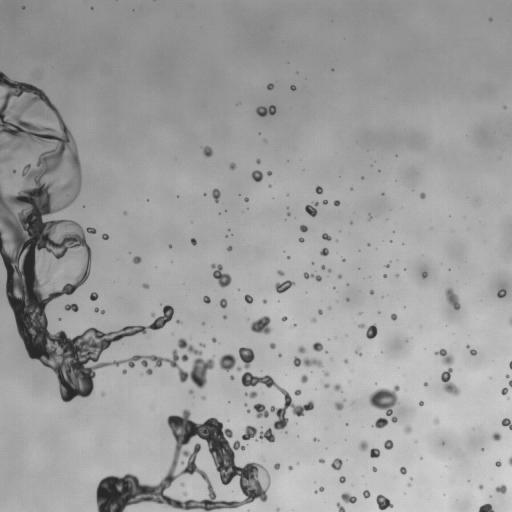droplet: (367, 384, 400, 423), (250, 316, 273, 335), (357, 323, 377, 339), (376, 494, 393, 511), (305, 201, 318, 217), (371, 417, 388, 428), (341, 491, 356, 503), (330, 458, 343, 471), (200, 145, 213, 157), (500, 417, 511, 431), (251, 170, 263, 182), (334, 398, 346, 410), (494, 484, 507, 495), (64, 303, 78, 312), (6, 70, 17, 81), (275, 81, 286, 92), (15, 148, 26, 159), (307, 192, 318, 203), (300, 213, 311, 224), (331, 261, 342, 272), (291, 272, 302, 283), (372, 279, 383, 290), (219, 286, 230, 297), (60, 293, 71, 304), (43, 303, 54, 314), (4, 308, 15, 319), (110, 321, 121, 332), (46, 324, 57, 335), (14, 338, 25, 349), (304, 347, 315, 358), (99, 350, 110, 361), (248, 364, 259, 375), (204, 368, 215, 379), (292, 395, 303, 406), (193, 414, 204, 425), (379, 426, 390, 437), (234, 456, 245, 467), (148, 475, 159, 486), (484, 481, 495, 492), (341, 482, 352, 493), (350, 486, 361, 497), (144, 500, 155, 511), (212, 188, 220, 203), (244, 390, 257, 399), (243, 294, 254, 304), (312, 341, 323, 351), (491, 431, 502, 441), (358, 440, 368, 451), (333, 383, 343, 393), (370, 448, 380, 458), (354, 344, 362, 356), (403, 424, 412, 434), (384, 439, 393, 449), (362, 489, 371, 499), (296, 345, 307, 353), (319, 380, 330, 388), (320, 247, 329, 256), (497, 289, 506, 298), (336, 502, 345, 511), (5, 160, 14, 169), (73, 197, 82, 206), (40, 213, 49, 222), (84, 233, 93, 242), (335, 279, 344, 288), (210, 296, 219, 305), (131, 317, 140, 326), (65, 330, 74, 339), (255, 330, 264, 339), (234, 357, 243, 366), (322, 361, 331, 370), (297, 364, 306, 373), (255, 381, 264, 390), (368, 384, 377, 393), (333, 392, 342, 401), (275, 398, 284, 407), (284, 407, 293, 416), (376, 408, 385, 417), (268, 412, 277, 421), (167, 436, 176, 445), (88, 487, 97, 496), (342, 501, 351, 510), (86, 226, 96, 234), (219, 298, 227, 308), (315, 185, 323, 194), (299, 225, 308, 233), (322, 233, 331, 241), (90, 292, 98, 301), (300, 374, 308, 383), (0, 147, 8, 156), (132, 256, 142, 263), (0, 130, 6, 141), (88, 505, 99, 511), (122, 505, 133, 511), (494, 459, 502, 467), (203, 295, 210, 304), (266, 83, 274, 90), (229, 162, 236, 170), (421, 271, 428, 279), (390, 313, 397, 321), (322, 370, 330, 377), (501, 387, 508, 395), (432, 417, 439, 425), (0, 84, 5, 95), (0, 261, 5, 272), (189, 238, 196, 245), (269, 342, 276, 349), (294, 389, 301, 396), (273, 462, 280, 469), (339, 476, 346, 483), (24, 77, 31, 84), (34, 81, 41, 88), (44, 89, 51, 96), (211, 148, 218, 155), (77, 153, 84, 160), (30, 162, 37, 169), (255, 163, 262, 170), (261, 174, 268, 181), (316, 193, 323, 200), (95, 229, 102, 236), (297, 230, 304, 237), (321, 239, 328, 246), (89, 261, 96, 268), (88, 267, 95, 274), (318, 269, 325, 276), (329, 271, 336, 278), (277, 276, 284, 283), (308, 276, 315, 283), (339, 277, 346, 284), (452, 287, 459, 294), (440, 293, 447, 300), (50, 297, 57, 304), (457, 297, 464, 304), (91, 299, 98, 306), (446, 303, 453, 310), (220, 307, 227, 314), (252, 314, 259, 321), (147, 316, 154, 323), (356, 316, 363, 323), (245, 320, 252, 327), (205, 339, 212, 346), (320, 339, 327, 346), (171, 341, 178, 348), (445, 347, 452, 354), (177, 348, 184, 355), (222, 348, 229, 355), (271, 348, 278, 355), (155, 350, 162, 357), (125, 351, 132, 358), (232, 351, 239, 358), (297, 352, 304, 359), (201, 354, 208, 361), (97, 355, 104, 362), (32, 357, 39, 364), (134, 359, 141, 366), (147, 360, 154, 367), (161, 360, 168, 367), (213, 360, 220, 367), (121, 361, 128, 368), (310, 364, 317, 371), (152, 366, 159, 373), (171, 367, 178, 374), (229, 367, 236, 374), (50, 371, 57, 378), (235, 372, 242, 379), (173, 373, 180, 380), (91, 376, 98, 383), (185, 376, 192, 383), (296, 382, 303, 389), (340, 382, 347, 389), (246, 384, 253, 391), (386, 384, 393, 391), (90, 388, 97, 395), (394, 390, 401, 397), (444, 391, 451, 398), (73, 394, 80, 401), (251, 397, 258, 404), (342, 401, 349, 408), (176, 410, 183, 417), (161, 418, 168, 425), (271, 428, 278, 435), (408, 431, 415, 438), (227, 438, 234, 445), (239, 438, 246, 445), (353, 438, 360, 445), (379, 447, 386, 454), (325, 457, 332, 464), (165, 458, 172, 465), (500, 458, 507, 465), (279, 463, 286, 470), (266, 464, 273, 471), (129, 468, 136, 475), (335, 469, 342, 476), (102, 470, 109, 477), (160, 470, 167, 477), (116, 471, 123, 478), (138, 478, 145, 485), (348, 489, 355, 496), (356, 493, 363, 500), (369, 494, 376, 501), (253, 496, 260, 503), (141, 500, 148, 507), (243, 502, 250, 509), (101, 233, 109, 239), (276, 270, 284, 276), (400, 466, 406, 474), (506, 289, 511, 298), (506, 483, 511, 492), (221, 506, 230, 511), (419, 192, 425, 199), (333, 200, 340, 206), (266, 170, 272, 176), (226, 245, 232, 251), (371, 466, 377, 472), (0, 258, 4, 267), (298, 237, 305, 242), (142, 283, 149, 288), (310, 317, 317, 322), (175, 319, 182, 324), (198, 342, 205, 347), (312, 437, 319, 442), (318, 458, 325, 463), (290, 85, 296, 90), (244, 196, 249, 202), (337, 273, 342, 279), (369, 289, 374, 295), (317, 309, 322, 315), (281, 316, 287, 321), (229, 374, 234, 380), (188, 389, 194, 394), (418, 400, 423, 406), (507, 368, 511, 375), (507, 386, 511, 393), (175, 507, 182, 511), (196, 507, 203, 511), (332, 507, 339, 511), (383, 507, 390, 511), (322, 199, 327, 204), (286, 211, 291, 216), (320, 265, 325, 270), (326, 268, 331, 273), (222, 315, 227, 320), (343, 358, 348, 363), (423, 381, 428, 386), (288, 465, 293, 470), (408, 476, 413, 481), (478, 484, 483, 489), (263, 80, 268, 85), (272, 85, 277, 90), (49, 98, 54, 103), (264, 103, 269, 108), (265, 112, 270, 117), (254, 113, 259, 118), (65, 123, 70, 128), (258, 134, 263, 139), (201, 142, 206, 147), (200, 153, 205, 158), (207, 155, 212, 160), (232, 158, 237, 163), (233, 167, 238, 172), (16, 169, 21, 174), (247, 169, 252, 174), (261, 170, 266, 175), (249, 177, 254, 182), (80, 178, 85, 183), (256, 180, 261, 185), (217, 186, 222, 191), (78, 190, 83, 195), (415, 191, 420, 196), (240, 193, 245, 198), (424, 193, 429, 198), (76, 194, 81, 199), (209, 196, 214, 201), (217, 196, 222, 201), (328, 199, 333, 204), (317, 200, 322, 205), (243, 201, 248, 206), (219, 207, 224, 212), (290, 211, 295, 216), (315, 211, 320, 216), (304, 212, 309, 217), (73, 217, 78, 222), (330, 235, 335, 240), (186, 240, 191, 245), (89, 246, 94, 251), (317, 246, 322, 251), (135, 251, 140, 256), (129, 253, 134, 258), (320, 254, 325, 259), (137, 261, 142, 266), (280, 266, 285, 271), (209, 267, 214, 272), (419, 267, 424, 272), (220, 268, 225, 273), (383, 268, 388, 273), (398, 269, 403, 274), (416, 272, 421, 277), (229, 273, 234, 278), (84, 278, 89, 283), (143, 278, 148, 283), (213, 278, 218, 283), (223, 285, 228, 290), (141, 287, 146, 292), (73, 288, 78, 293), (271, 288, 276, 293), (285, 288, 290, 293), (241, 290, 246, 295), (492, 293, 497, 298), (208, 294, 213, 299), (495, 296, 500, 301), (198, 297, 203, 302), (165, 300, 170, 305), (161, 301, 166, 306), (226, 301, 231, 306), (76, 302, 81, 307), (225, 304, 230, 309), (321, 307, 326, 312), (68, 308, 73, 313), (158, 311, 163, 316), (313, 311, 318, 316), (395, 311, 400, 316), (279, 312, 284, 317), (170, 316, 175, 321), (387, 317, 392, 322), (123, 321, 128, 326), (164, 321, 169, 326), (504, 321, 509, 326), (89, 322, 94, 327), (120, 322, 125, 327), (365, 322, 370, 327), (83, 324, 88, 329), (95, 325, 100, 330), (146, 327, 151, 332), (362, 327, 367, 332), (102, 328, 107, 333), (153, 328, 158, 333), (376, 328, 381, 333), (76, 330, 81, 335), (137, 331, 142, 336), (120, 336, 125, 341), (200, 338, 205, 343), (271, 338, 276, 343), (311, 338, 316, 343), (185, 339, 190, 344), (110, 340, 115, 345), (195, 345, 200, 350), (265, 345, 270, 350), (350, 345, 355, 350), (435, 346, 440, 351), (136, 350, 141, 355), (146, 350, 151, 355), (252, 350, 257, 355), (342, 353, 347, 358), (436, 353, 441, 358), (114, 356, 119, 361), (249, 360, 254, 365), (299, 362, 304, 367), (110, 363, 115, 368), (449, 363, 454, 368), (102, 365, 107, 370), (142, 366, 147, 371), (221, 368, 226, 373), (240, 368, 245, 373), (251, 371, 256, 376), (449, 371, 454, 376), (305, 372, 310, 377), (122, 373, 127, 378), (144, 373, 149, 378), (296, 374, 301, 379), (436, 375, 441, 380), (225, 376, 230, 381), (272, 377, 277, 382), (306, 377, 311, 382), (323, 377, 328, 382), (448, 377, 453, 382), (439, 380, 444, 385), (504, 382, 509, 387), (279, 383, 284, 388), (318, 383, 323, 388), (328, 385, 333, 390), (496, 388, 501, 393), (288, 391, 293, 396), (187, 393, 192, 398), (279, 393, 284, 398), (56, 394, 61, 399), (501, 394, 506, 399), (336, 397, 341, 402), (312, 402, 317, 407), (330, 403, 335, 408), (185, 405, 190, 410), (264, 405, 269, 410), (390, 405, 395, 410), (251, 408, 256, 413), (336, 409, 341, 414), (259, 415, 264, 420), (385, 415, 390, 420), (217, 417, 222, 422), (438, 417, 443, 422), (497, 417, 502, 422), (383, 424, 388, 429), (410, 424, 415, 429), (283, 425, 288, 430), (261, 427, 266, 432), (241, 429, 246, 434), (254, 432, 259, 437), (382, 436, 387, 441), (248, 437, 253, 442), (262, 437, 267, 442), (492, 439, 497, 444), (392, 441, 397, 446), (390, 446, 395, 451), (365, 449, 370, 454), (340, 456, 345, 461), (371, 456, 376, 461), (271, 459, 276, 464), (341, 460, 346, 465), (318, 462, 323, 467), (291, 463, 296, 468), (328, 466, 333, 471), (395, 469, 400, 474), (269, 478, 274, 483), (344, 478, 349, 483), (410, 480, 415, 485), (496, 481, 501, 486), (314, 484, 319, 489), (476, 488, 481, 493), (265, 490, 270, 495), (496, 491, 501, 496), (384, 493, 389, 498), (388, 498, 393, 503), (479, 500, 484, 505), (373, 502, 378, 507), (474, 506, 479, 511), (256, 158, 260, 164), (505, 374, 511, 378), (200, 396, 206, 400), (0, 98, 3, 105), (0, 221, 3, 228), (0, 256, 3, 263), (263, 138, 267, 143), (123, 210, 127, 215), (168, 244, 172, 249), (341, 257, 345, 262), (383, 274, 387, 279), (262, 299, 267, 303), (327, 305, 331, 310), (278, 352, 282, 357), (122, 369, 126, 374), (351, 400, 355, 405), (246, 408, 250, 413), (180, 482, 185, 486), (407, 482, 411, 487), (182, 492, 187, 496), (21, 5, 25, 9), (488, 17, 492, 21), (502, 105, 506, 109), (349, 220, 353, 224), (366, 242, 370, 246), (310, 261, 314, 265), (201, 321, 205, 325), (101, 392, 105, 396), (413, 439, 417, 443), (295, 461, 299, 465), (357, 312, 362, 315), (508, 375, 511, 380), (187, 508, 192, 511), (211, 508, 216, 511), (377, 508, 382, 511), (12, 169, 15, 173), (203, 192, 206, 196), (381, 192, 385, 195), (286, 256, 290, 259), (395, 274, 399, 277), (346, 297, 349, 301), (377, 310, 380, 314), (324, 350, 328, 353), (330, 357, 333, 361), (348, 380, 351, 384), (244, 402, 247, 406), (345, 422, 348, 426), (276, 507, 279, 511), (90, 6, 93, 9), (331, 68, 334, 71), (377, 169, 380, 172), (361, 176, 364, 179), (268, 184, 271, 187), (350, 187, 353, 190), (286, 193, 289, 196), (176, 195, 179, 198), (146, 198, 149, 201), (286, 206, 289, 209), (224, 209, 227, 212), (218, 212, 221, 215), (227, 228, 230, 231), (392, 230, 395, 233), (225, 234, 228, 237), (335, 239, 338, 242), (128, 251, 131, 254), (403, 268, 406, 271), (346, 283, 349, 286), (332, 286, 335, 289), (237, 288, 240, 291), (58, 317, 61, 320), (171, 332, 174, 335), (405, 339, 408, 342), (374, 382, 377, 385), (481, 448, 484, 451), (489, 495, 492, 498), (92, 5, 95, 8), (87, 7, 90, 10), (20, 8, 23, 11), (491, 16, 494, 19), (331, 65, 334, 68), (329, 70, 332, 73), (269, 80, 272, 83), (290, 81, 293, 84), (287, 84, 290, 87), (295, 85, 298, 88), (264, 87, 267, 90), (267, 89, 270, 92), (289, 89, 292, 92), (293, 89, 296, 92), (272, 102, 275, 105), (275, 107, 278, 110), (273, 112, 276, 115), (260, 132, 263, 135), (397, 153, 400, 156), (259, 160, 262, 163), (25, 161, 28, 164), (371, 161, 374, 164), (226, 164, 229, 167), (12, 166, 15, 169), (378, 166, 381, 169), (269, 168, 272, 171), (374, 168, 377, 171), (9, 169, 12, 172), (380, 169, 383, 172), (376, 171, 379, 174), (360, 172, 363, 175), (269, 174, 272, 177), (357, 175, 360, 178), (363, 175, 366, 178), (318, 183, 321, 186), (271, 184, 274, 187), (346, 186, 349, 189), (352, 186, 355, 189), (267, 187, 270, 190), (312, 188, 315, 191), (380, 189, 383, 192), (237, 190, 240, 193), (349, 190, 352, 193), (200, 191, 203, 194), (313, 191, 316, 194), (384, 191, 387, 194), (246, 194, 249, 197), (380, 194, 383, 197), (173, 195, 176, 198), (178, 195, 181, 198), (335, 197, 338, 200), (143, 199, 146, 202), (148, 199, 151, 202), (247, 200, 250, 203), (339, 200, 342, 203), (338, 203, 341, 206), (311, 204, 314, 207), (334, 205, 337, 208), (81, 207, 84, 210), (226, 208, 229, 211), (243, 208, 246, 211), (287, 208, 290, 211), (215, 211, 218, 214), (370, 212, 373, 215), (217, 214, 220, 217), (286, 215, 289, 218), (370, 218, 373, 221), (346, 220, 349, 223), (352, 220, 355, 223), (226, 225, 229, 228), (390, 227, 393, 230), (83, 228, 86, 231), (103, 230, 106, 233), (394, 230, 397, 233), (227, 231, 230, 234), (107, 232, 110, 235), (319, 232, 322, 235), (327, 232, 330, 235), (389, 236, 392, 239), (107, 237, 110, 240), (104, 239, 107, 242), (195, 239, 198, 242), (402, 239, 405, 242), (368, 240, 371, 243), (298, 241, 301, 244), (301, 241, 304, 244), (398, 241, 401, 244), (388, 242, 391, 245), (171, 243, 174, 246), (225, 244, 228, 247), (165, 245, 168, 248), (365, 245, 368, 248), (231, 247, 234, 250), (224, 249, 227, 252), (228, 250, 231, 253), (286, 252, 289, 255), (283, 255, 286, 258), (338, 257, 341, 260), (287, 258, 290, 261), (209, 261, 212, 264), (341, 261, 344, 264), (384, 261, 387, 264), (308, 262, 311, 265), (356, 264, 359, 267), (324, 265, 327, 268), (400, 266, 403, 269), (445, 266, 448, 269), (330, 267, 333, 270), (450, 267, 453, 270), (357, 269, 360, 272), (445, 269, 448, 272), (403, 270, 406, 273), (307, 271, 310, 274), (313, 272, 316, 275), (380, 272, 383, 275), (386, 273, 389, 276), (341, 274, 344, 277), (301, 275, 304, 278), (380, 275, 383, 278), (397, 275, 400, 278), (424, 276, 427, 279), (384, 277, 387, 280), (289, 278, 292, 281), (320, 278, 323, 281), (348, 281, 351, 284), (346, 285, 349, 288), (329, 286, 332, 289), (335, 286, 338, 289), (332, 289, 335, 292), (95, 290, 98, 293), (366, 290, 369, 293), (373, 290, 376, 293), (494, 290, 497, 293), (275, 291, 278, 294), (248, 292, 251, 295), (87, 293, 90, 296), (368, 293, 371, 296), (371, 293, 374, 296), (504, 294, 507, 297), (383, 295, 386, 298), (348, 296, 351, 299), (500, 296, 503, 299), (265, 297, 268, 300), (343, 299, 346, 302), (243, 300, 246, 303), (251, 300, 254, 303), (266, 300, 269, 303), (346, 301, 349, 304), (204, 302, 207, 305), (263, 303, 266, 306), (217, 304, 220, 307), (91, 307, 94, 310), (357, 308, 360, 311), (378, 308, 381, 311), (97, 310, 100, 313), (391, 310, 394, 313), (103, 312, 106, 315), (360, 313, 363, 316), (58, 314, 61, 317), (226, 315, 229, 318), (220, 317, 223, 320), (395, 317, 398, 320), (224, 318, 227, 321), (284, 319, 287, 322), (198, 320, 201, 323), (293, 320, 296, 323), (177, 322, 180, 325), (204, 322, 207, 325), (296, 323, 299, 326), (354, 324, 357, 327), (293, 326, 296, 329), (215, 337, 218, 340), (407, 338, 410, 341), (214, 341, 217, 344), (463, 343, 466, 346), (242, 344, 245, 347), (469, 346, 472, 349), (327, 349, 330, 352), (280, 351, 283, 354), (355, 353, 358, 356), (361, 353, 364, 356), (471, 354, 474, 357), (275, 355, 278, 358), (279, 356, 282, 359), (291, 357, 294, 360), (347, 359, 350, 362), (341, 361, 344, 364), (506, 362, 509, 365), (345, 363, 348, 366), (444, 368, 447, 371), (320, 371, 323, 374), (502, 373, 505, 376), (420, 381, 423, 384), (427, 381, 430, 384), (423, 385, 426, 388), (300, 390, 303, 393), (227, 397, 230, 400), (421, 398, 424, 401), (416, 399, 419, 402), (224, 400, 227, 403), (230, 400, 233, 403), (241, 401, 244, 404), (423, 401, 426, 404), (420, 405, 423, 408), (244, 406, 247, 409), (299, 414, 302, 417), (396, 418, 399, 421), (344, 419, 347, 422), (342, 423, 345, 426), (347, 423, 350, 426), (505, 425, 508, 428), (298, 433, 301, 436), (310, 435, 313, 438), (315, 436, 318, 439), (319, 438, 322, 441), (310, 439, 313, 442), (314, 440, 317, 443), (480, 444, 483, 447), (483, 448, 486, 451), (478, 449, 481, 452), (420, 453, 423, 456), (322, 456, 325, 459), (416, 456, 419, 459), (421, 458, 424, 461), (495, 458, 498, 461), (315, 459, 318, 462), (400, 463, 403, 466), (374, 464, 377, 467), (494, 465, 497, 468), (498, 465, 501, 468), (397, 466, 400, 469), (369, 467, 372, 470), (405, 467, 408, 470), (376, 468, 379, 471), (289, 469, 292, 472), (372, 471, 375, 474), (400, 473, 403, 476), (412, 476, 415, 479), (467, 476, 470, 479), (336, 479, 339, 482), (407, 479, 410, 482), (469, 480, 472, 483), (479, 481, 482, 484), (339, 482, 342, 485), (322, 484, 325, 487), (475, 484, 478, 487), (482, 484, 485, 487), (408, 486, 411, 489), (323, 488, 326, 491), (360, 489, 363, 492), (368, 489, 371, 492), (317, 490, 320, 493), (365, 497, 368, 500), (258, 132, 260, 135), (395, 154, 397, 157), (389, 240, 392, 242), (402, 242, 404, 245), (448, 268, 450, 271), (381, 295, 383, 298), (336, 300, 338, 303), (403, 306, 406, 308), (327, 338, 330, 340), (380, 351, 383, 353), (310, 371, 313, 373), (140, 373, 143, 375), (489, 376, 491, 379), (507, 396, 509, 399), (227, 401, 230, 403), (227, 419, 230, 421), (472, 427, 474, 430), (297, 434, 299, 437), (344, 438, 346, 441), (420, 457, 422, 460), (467, 480, 470, 482), (509, 418, 511, 421), (273, 509, 276, 511), (278, 509, 281, 511), (132, 9, 134, 11), (296, 71, 298, 73), (370, 164, 372, 166), (82, 205, 84, 207), (386, 218, 388, 220), (339, 230, 341, 232), (231, 233, 233, 235), (358, 249, 360, 251), (283, 250, 285, 252), (358, 267, 360, 269), (305, 291, 307, 293), (277, 300, 279, 302), (345, 334, 347, 336), (442, 442, 444, 444), (325, 447, 327, 449), (443, 493, 445, 495), (247, 509, 249, 511), (238, 194, 240, 195), (449, 215, 450, 217), (191, 221, 192, 223), (160, 303, 161, 305), (404, 492, 405, 494), (303, 169, 304, 170), (261, 370, 262, 371), (314, 482, 315, 483)
ligament: (218, 348, 314, 433), (434, 348, 460, 396), (241, 425, 275, 442), (210, 263, 231, 287), (292, 356, 323, 368), (445, 287, 460, 310), (274, 280, 295, 293), (256, 105, 276, 117), (303, 272, 321, 282), (478, 503, 495, 511), (465, 344, 477, 355), (46, 258, 52, 273), (94, 307, 105, 315), (314, 486, 324, 493), (384, 260, 391, 268), (211, 337, 220, 343), (507, 456, 511, 466), (368, 212, 372, 221), (290, 323, 297, 328), (508, 316, 511, 326), (508, 360, 511, 369), (508, 379, 511, 388), (235, 102, 240, 105), (152, 0, 156, 1), (183, 283, 184, 285)
